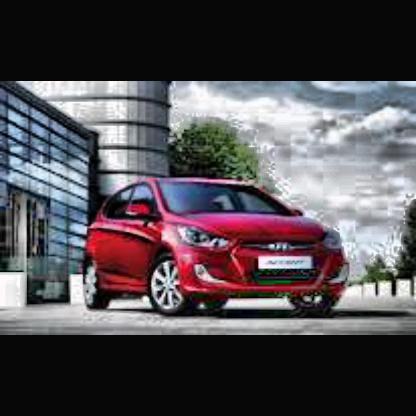Hyundai Accent Sedan 2012: (80, 176, 358, 319)
